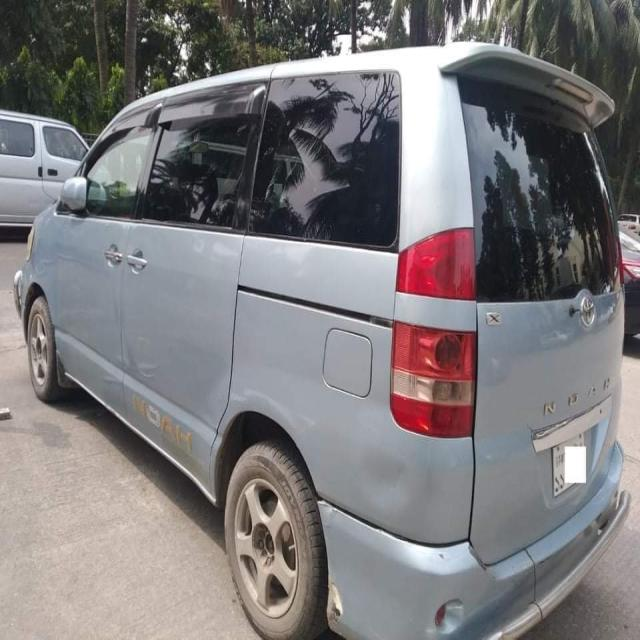silver: (35, 73, 617, 626)
white: (0, 105, 96, 235)
